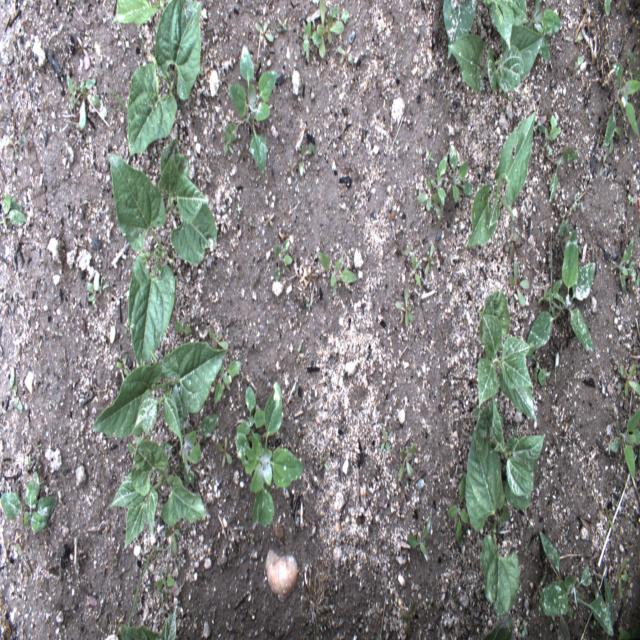crop: (465, 395, 545, 616), (91, 341, 228, 450), (110, 153, 175, 368), (107, 435, 206, 551), (128, 0, 200, 157), (465, 111, 536, 251), (476, 291, 536, 422), (158, 136, 217, 263), (446, 26, 544, 92), (486, 0, 562, 63), (118, 604, 176, 639), (442, 0, 477, 57), (111, 0, 165, 24), (482, 610, 514, 640)
weed: (234, 380, 303, 527), (526, 229, 598, 356), (539, 531, 613, 636), (224, 45, 276, 175), (124, 543, 172, 639), (160, 415, 220, 485), (0, 470, 58, 533), (603, 63, 640, 147), (608, 407, 640, 478), (67, 73, 101, 134), (237, 386, 268, 451), (546, 146, 578, 203), (316, 252, 357, 292), (447, 475, 468, 547), (448, 143, 473, 202), (612, 238, 636, 294), (215, 359, 243, 404), (417, 176, 443, 222), (0, 191, 27, 233), (538, 115, 561, 156), (407, 518, 430, 558), (510, 261, 529, 307), (558, 196, 580, 235), (429, 157, 446, 206), (316, 13, 344, 42), (303, 19, 322, 61), (274, 238, 292, 282), (529, 351, 551, 386), (619, 362, 640, 398), (397, 443, 416, 482), (155, 568, 174, 605), (9, 366, 23, 410), (614, 557, 628, 599), (298, 145, 318, 174), (208, 325, 229, 351), (400, 604, 416, 636), (421, 243, 436, 277), (162, 526, 180, 554), (16, 542, 32, 573), (602, 127, 621, 153), (318, 0, 326, 59), (506, 221, 518, 260), (628, 48, 640, 86), (86, 272, 100, 304), (395, 300, 415, 322), (617, 622, 640, 640), (256, 21, 274, 44), (173, 316, 193, 336), (215, 441, 232, 463), (332, 6, 349, 27), (380, 426, 392, 454), (412, 253, 421, 289), (532, 576, 544, 602), (504, 235, 522, 252), (338, 46, 354, 64), (222, 131, 234, 155), (605, 506, 616, 532), (116, 354, 128, 377), (404, 288, 411, 326), (274, 14, 288, 32), (97, 275, 110, 293), (599, 155, 609, 178), (518, 618, 528, 638), (318, 454, 329, 472), (263, 212, 275, 228), (573, 56, 586, 70), (295, 341, 302, 363), (603, 0, 610, 18), (550, 229, 552, 292), (401, 244, 412, 254), (306, 296, 312, 312), (627, 194, 634, 204), (635, 272, 639, 287), (428, 596, 432, 610), (428, 150, 432, 162)
